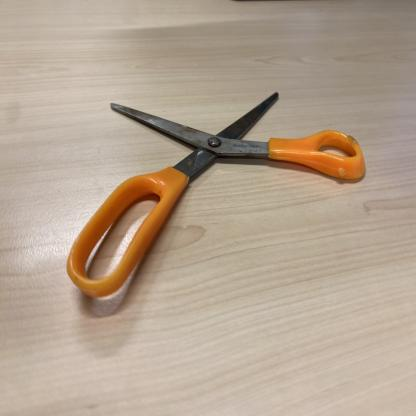scissors: (65, 84, 366, 304)
